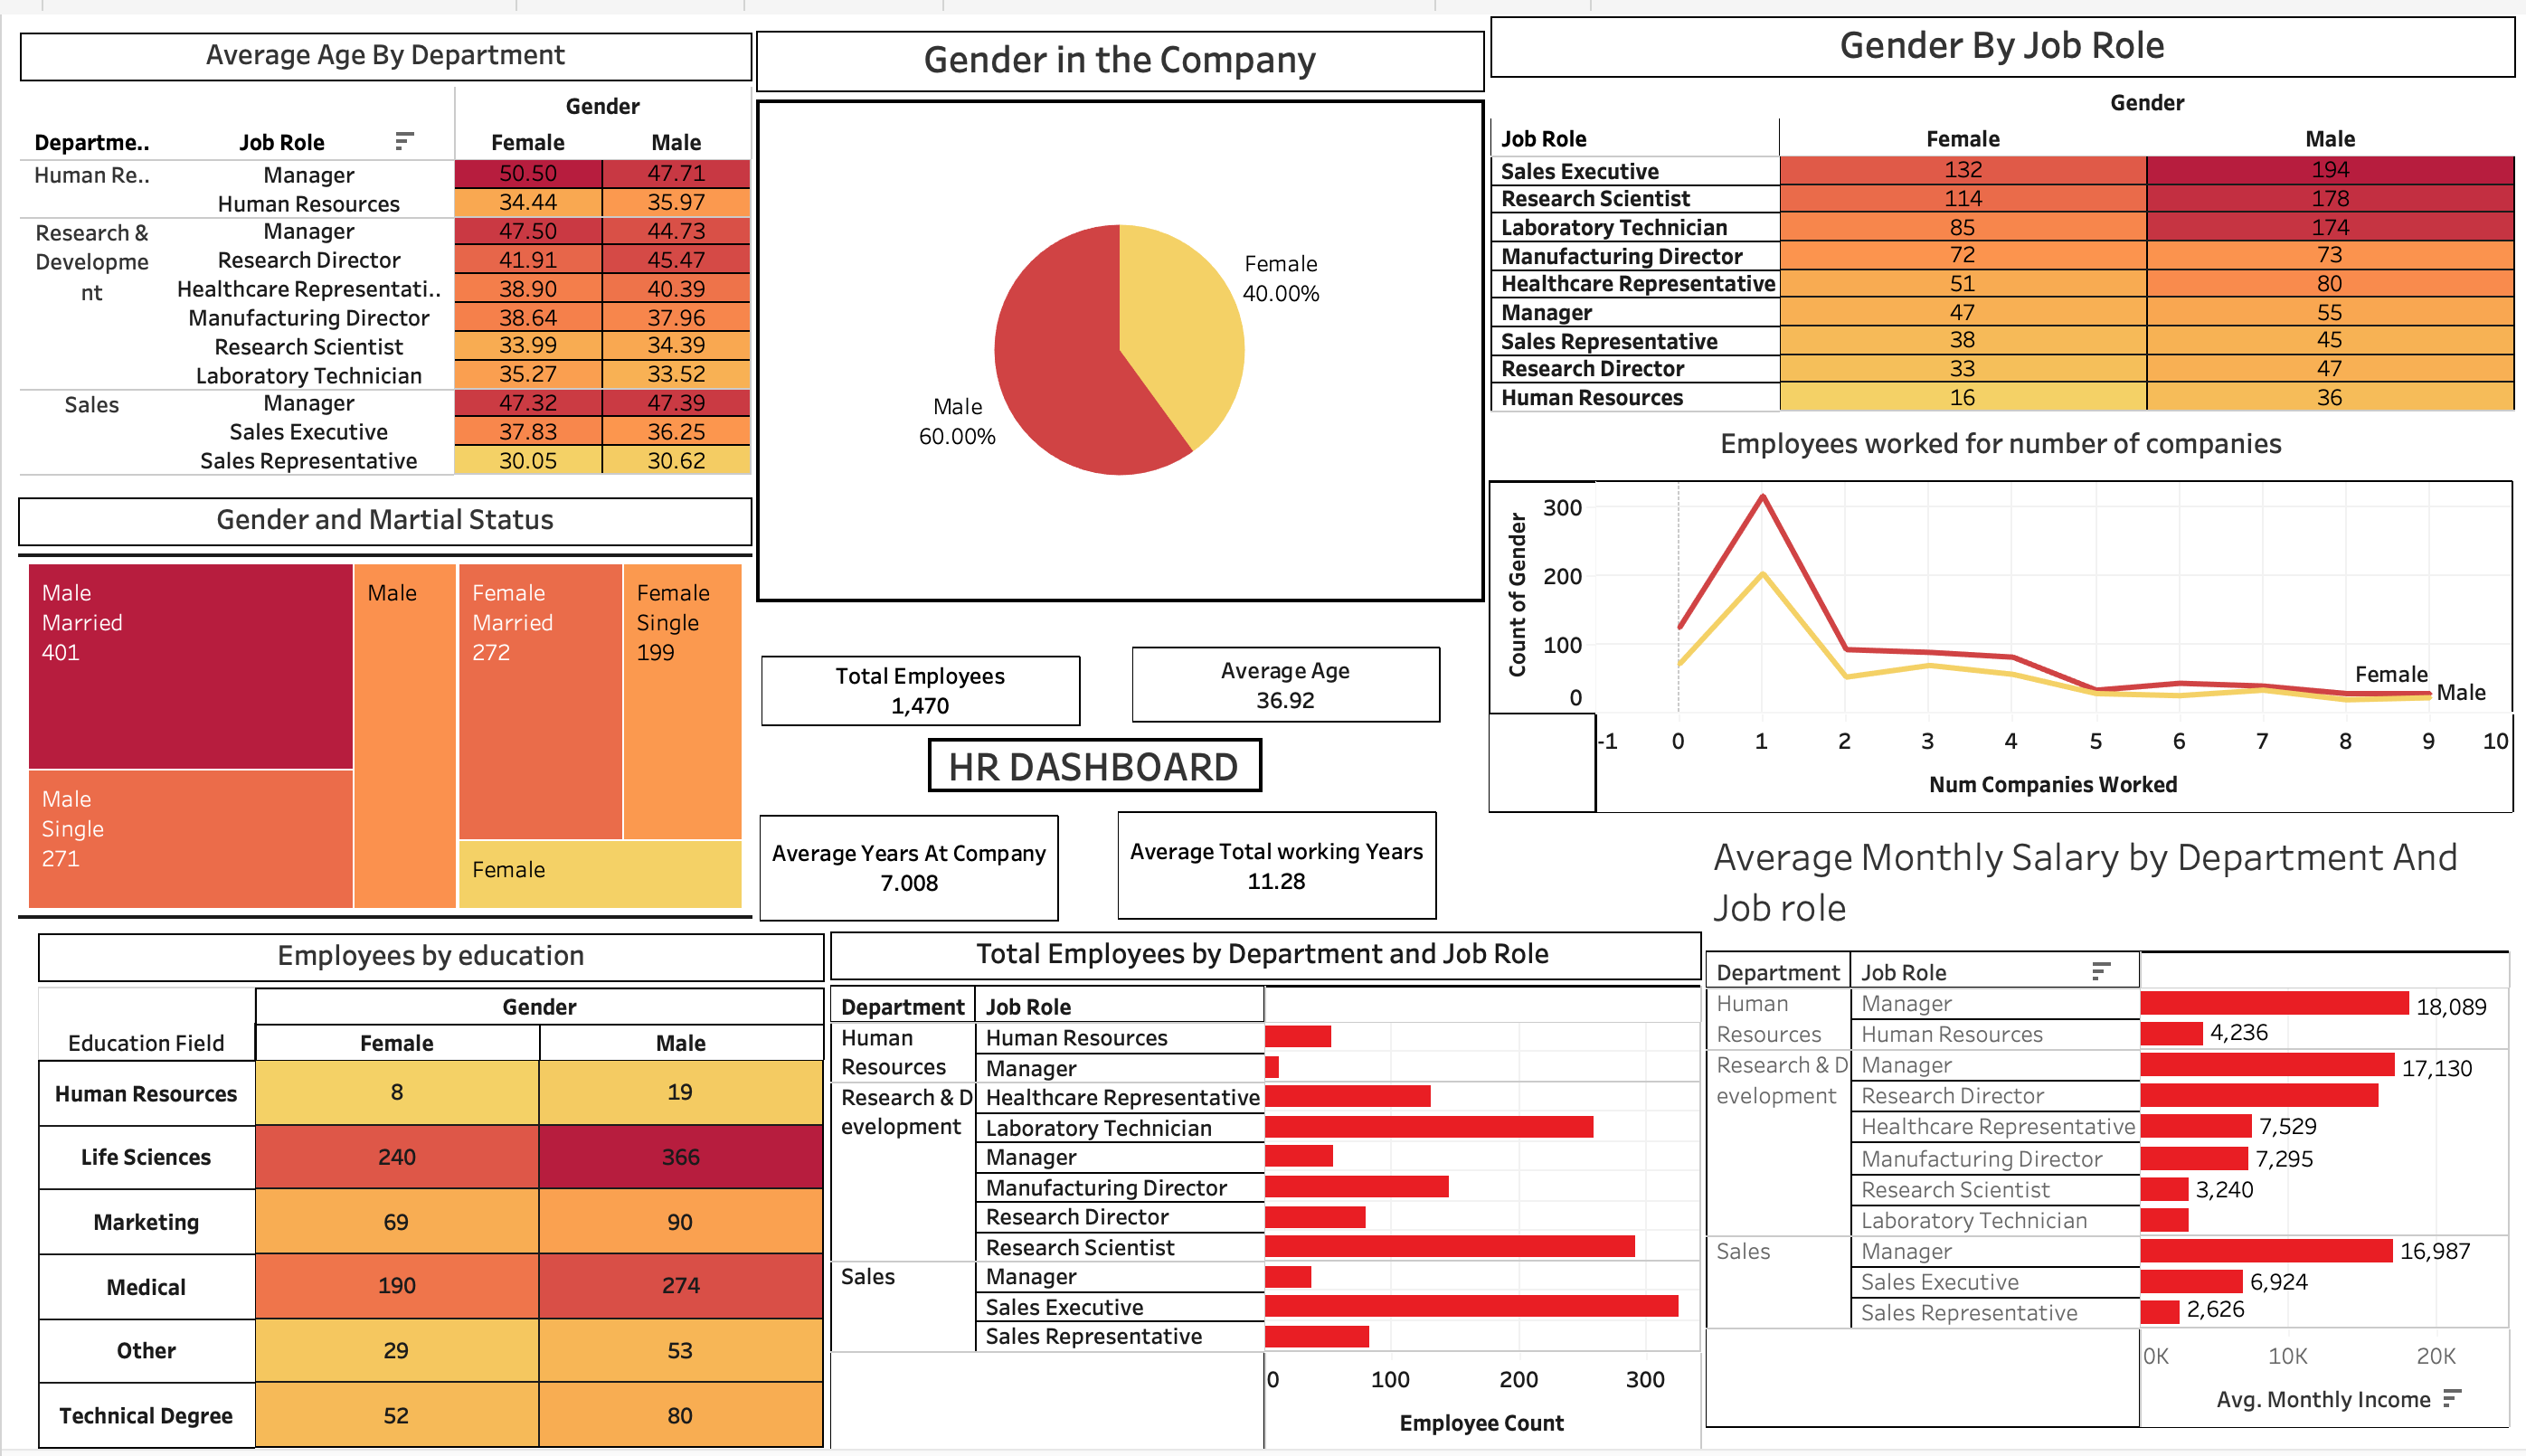

This screenshot's page, from the dashboard's own definition file:
{"tool":"tableau","page":{"name":"Dashboard 1","canvas":[1900,1300],"ordinal":0},"visuals":[{"type":"worksheet","title":"Gender by Job Role","mark":"Square","rows":["JobRole"],"cols":["Gender"],"box":[823,1,567,219]},{"type":"worksheet","title":"Gender in company","mark":"Pie","box":[416,9,404,316]},{"type":"worksheet","title":"Average Age by department","mark":"Square","rows":["Department","JobRole"],"cols":["Gender"],"box":[10,10,405,245]},{"type":"worksheet","title":"Employees worked for number of companies","mark":"Line","rows":["Gender"],"cols":["NumCompaniesWorked"],"box":[822,222,567,220]},{"type":"worksheet","title":"Gender and Martial Status","mark":"Automatic","box":[8,267,407,234]},{"type":"worksheet","title":"Average age ","mark":"Automatic","box":[625,307,171,85]},{"type":"worksheet","title":"Total emp","mark":"Automatic","box":[420,312,177,82]},{"type":"worksheet","title":"Sheet 13","mark":"Automatic","box":[511,384,237,54]},{"type":"worksheet","title":"Avg total working years","mark":"Automatic","box":[617,426,177,75]},{"type":"worksheet","title":"Average age at company","mark":"Automatic","box":[419,428,166,74]},{"type":"worksheet","title":"Average Monthly Salary by Department And Job role","mark":"Automatic","rows":["Department","JobRole"],"cols":["MonthlyIncome"],"box":[942,447,445,335]},{"type":"worksheet","title":"Total Employees by Department and Job Role ","mark":"Automatic","rows":["Department","JobRole"],"cols":["EmployeeCount"],"box":[458,507,482,288]},{"type":"worksheet","title":"Employees by education","mark":"Square","rows":["EducationField"],"cols":["Gender"],"box":[20,508,435,285]}]}

Visuals, with their boxes on the page's 1900x1300 design canvas (x1, y1, x2, y2). These are canvas units, not pixel positions in the 2526x1456 screenshot, which may show the page scaled, cropped or inside an application window:
"Gender by Job Role" worksheet (Square marks): <bbox>823, 1, 1390, 220</bbox>
"Gender in company" worksheet (Pie marks): <bbox>416, 9, 820, 325</bbox>
"Average Age by department" worksheet (Square marks): <bbox>10, 10, 415, 255</bbox>
"Employees worked for number of companies" worksheet (Line marks): <bbox>822, 222, 1389, 442</bbox>
"Gender and Martial Status" worksheet: <bbox>8, 267, 415, 501</bbox>
"Average age " worksheet: <bbox>625, 307, 796, 392</bbox>
"Total emp" worksheet: <bbox>420, 312, 597, 394</bbox>
"Sheet 13" worksheet: <bbox>511, 384, 748, 438</bbox>
"Avg total working years" worksheet: <bbox>617, 426, 794, 501</bbox>
"Average age at company" worksheet: <bbox>419, 428, 585, 502</bbox>
"Average Monthly Salary by Department And Job role" worksheet: <bbox>942, 447, 1387, 782</bbox>
"Total Employees by Department and Job Role " worksheet: <bbox>458, 507, 940, 795</bbox>
"Employees by education" worksheet (Square marks): <bbox>20, 508, 455, 793</bbox>
